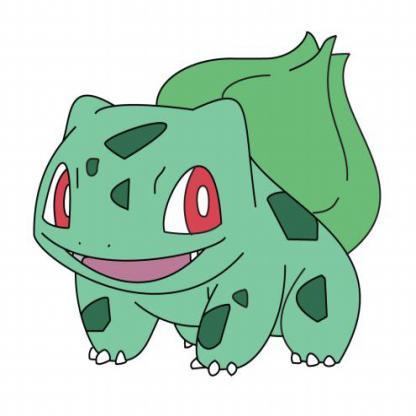Bulbasaur: (20, 18, 388, 398)
